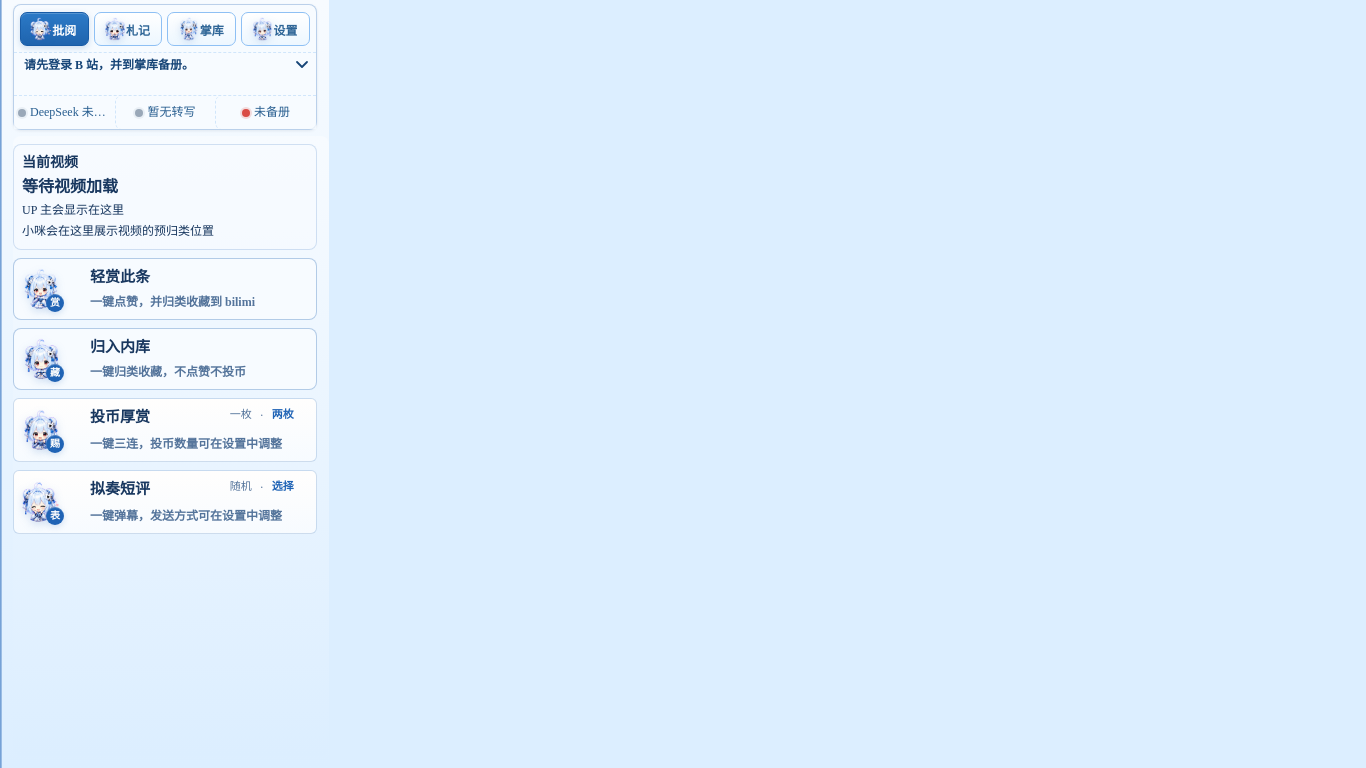
Test case: AssistantSidebar › keeps the default favorite system switch in Settings instead of the ledger overview
Step 1. Click the tab "掌库" → (202,29), box [167,12,236,46]
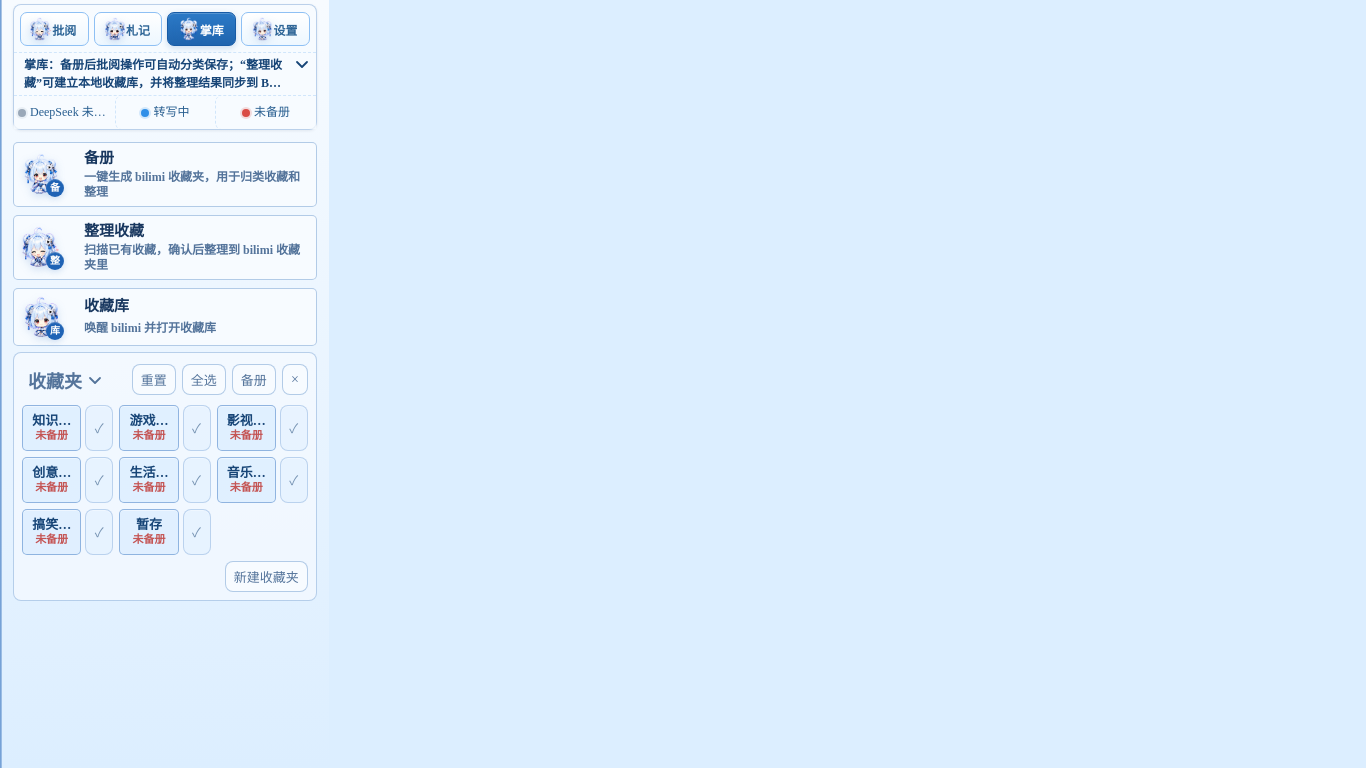
Check: the checkbox labelled "启用默认收藏夹" is not shown
Step 2. Click the tab "设置" → (275,29), box [241,12,310,46]
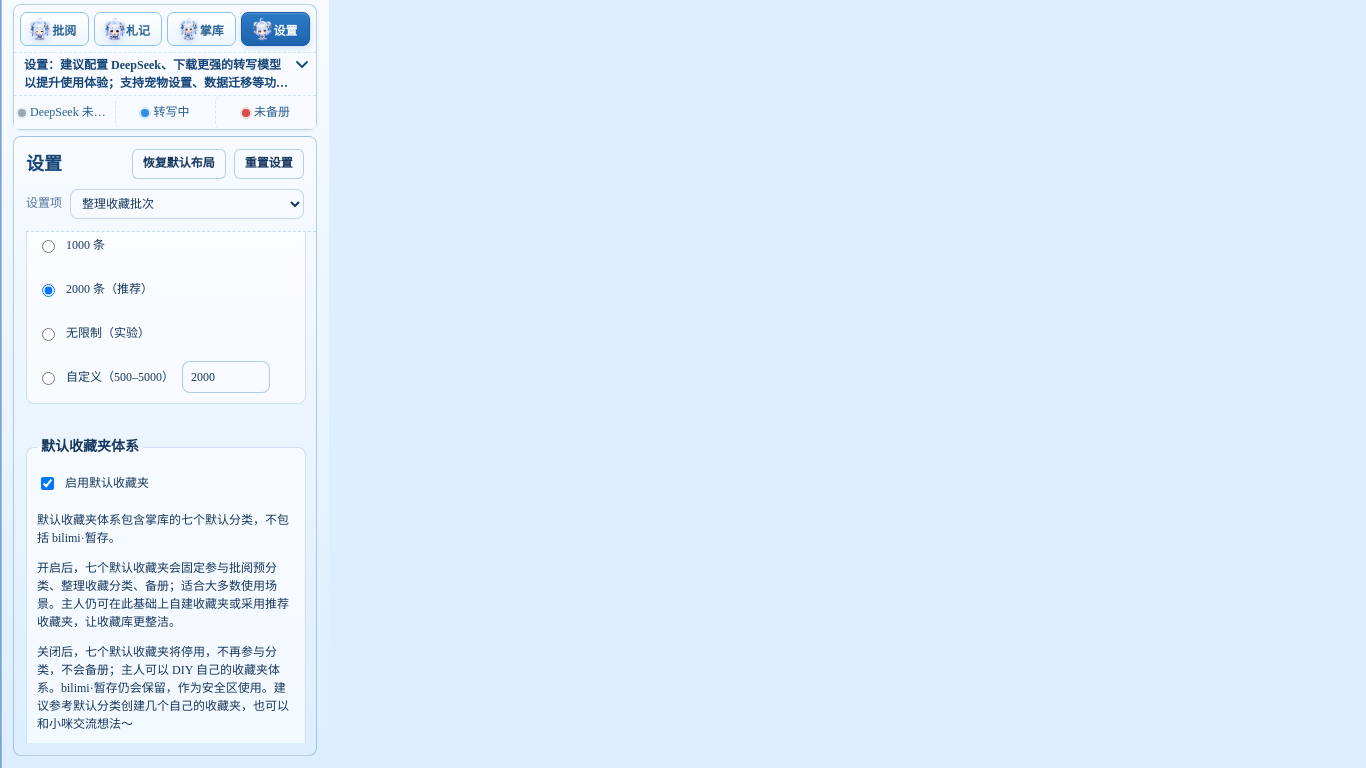
Check: the text "默认收藏夹体系包含掌库的七个默认分类，不包括 bilimi·暂存。" is shown, box [37,511,295,547]
Check: the checkbox labelled "启用默认收藏夹" is checked, box [41,477,54,490]
